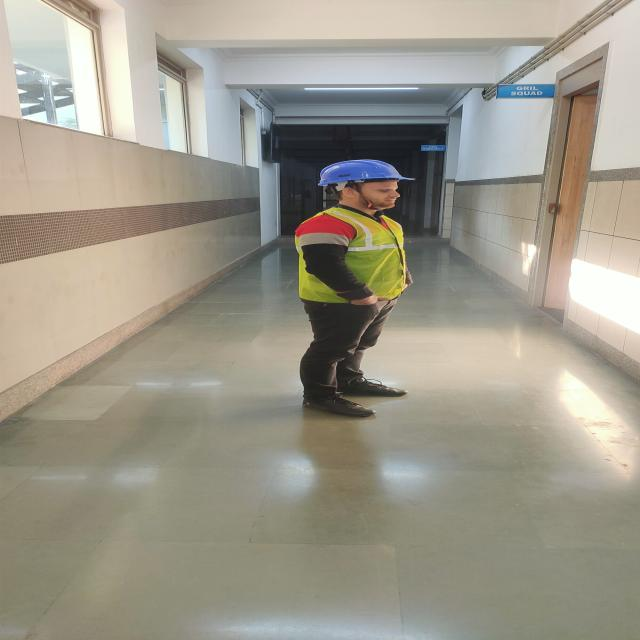safe: (282, 159, 424, 420)
